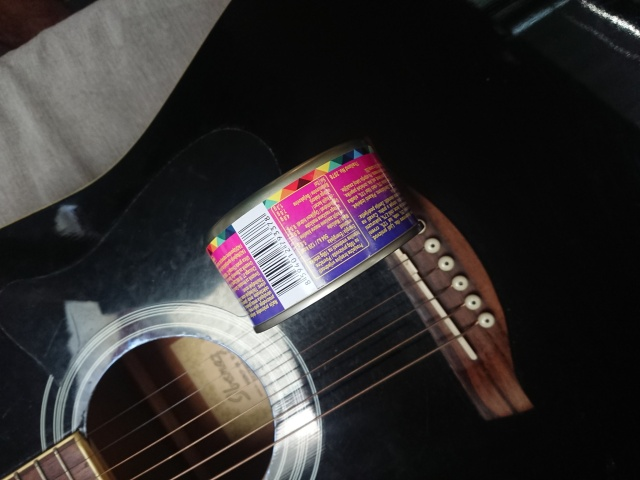Giana Tuna Salad Mexico 185g: (199, 133, 424, 336)
